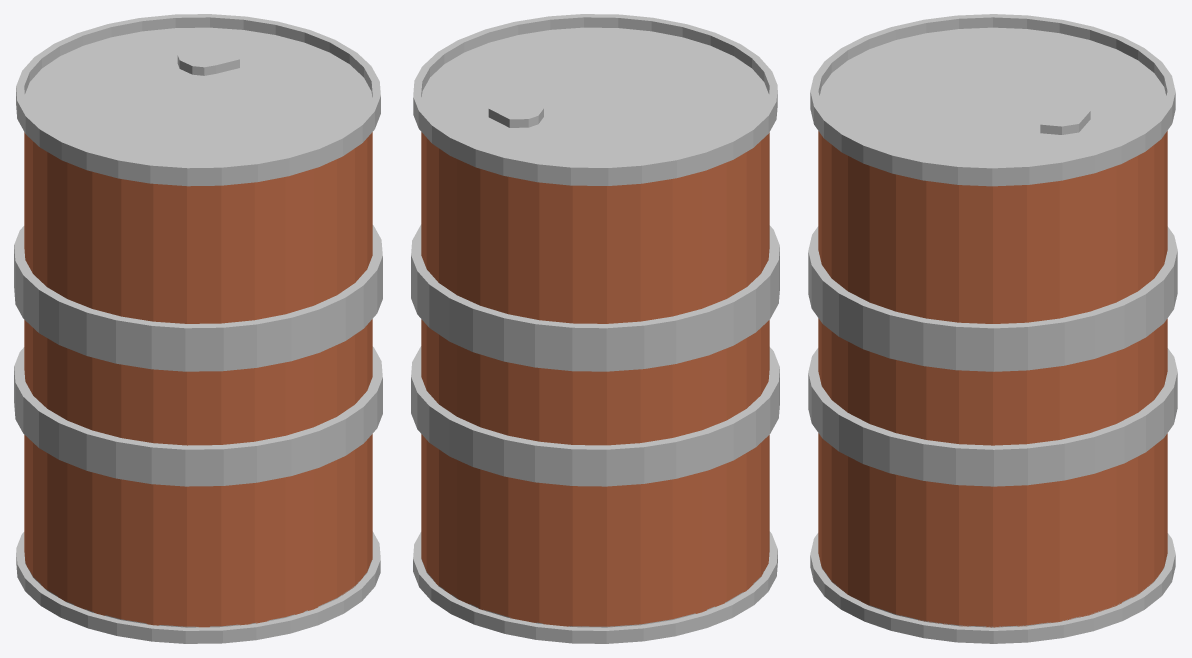
The model's file is ドラム缶 茶色.fbx.
3 renders of one model, left to right at view 1: azimuth 30°, elevation 25°; view 2: azimuth 150°, elevation 25°; view 3: azimuth 270°, elevation 25°, orthographic.
Parts seen in each view (by area): view 1: Cylinder; view 2: Cylinder; view 3: Cylinder.
Part boxes in pixels (x1,y1,x2,y2): Cylinder: (14,14,382,643); Cylinder: (411,14,779,643); Cylinder: (808,14,1177,643).
Bounding box in the file's own units: 212 × 301 × 212.
